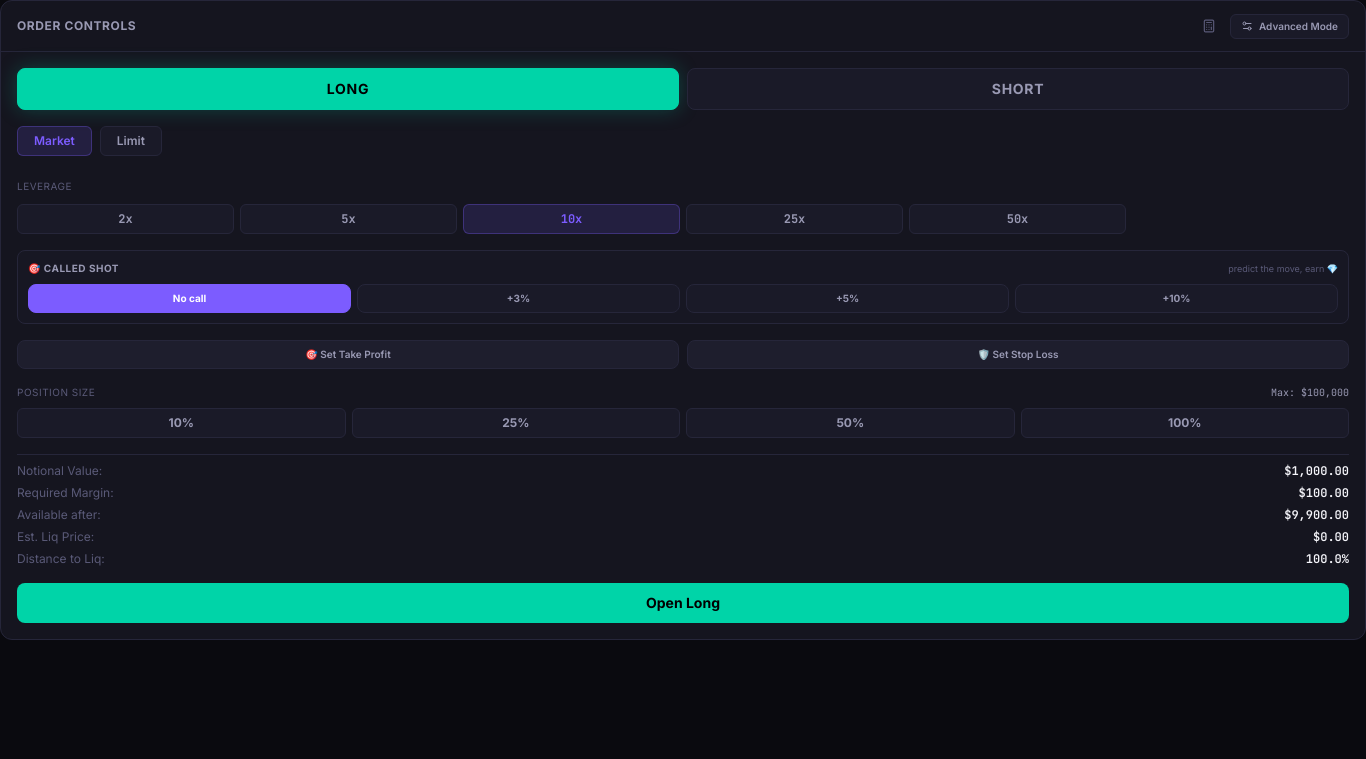
TradeControls › shows TP and SL inputs in simple mode when no position
Expected: the button "🛡️ Set Stop Loss" is shown, [687,340,1349,369]
Click the button "🎯 Set Take Profit" at [348, 354], box [17,340,679,369]
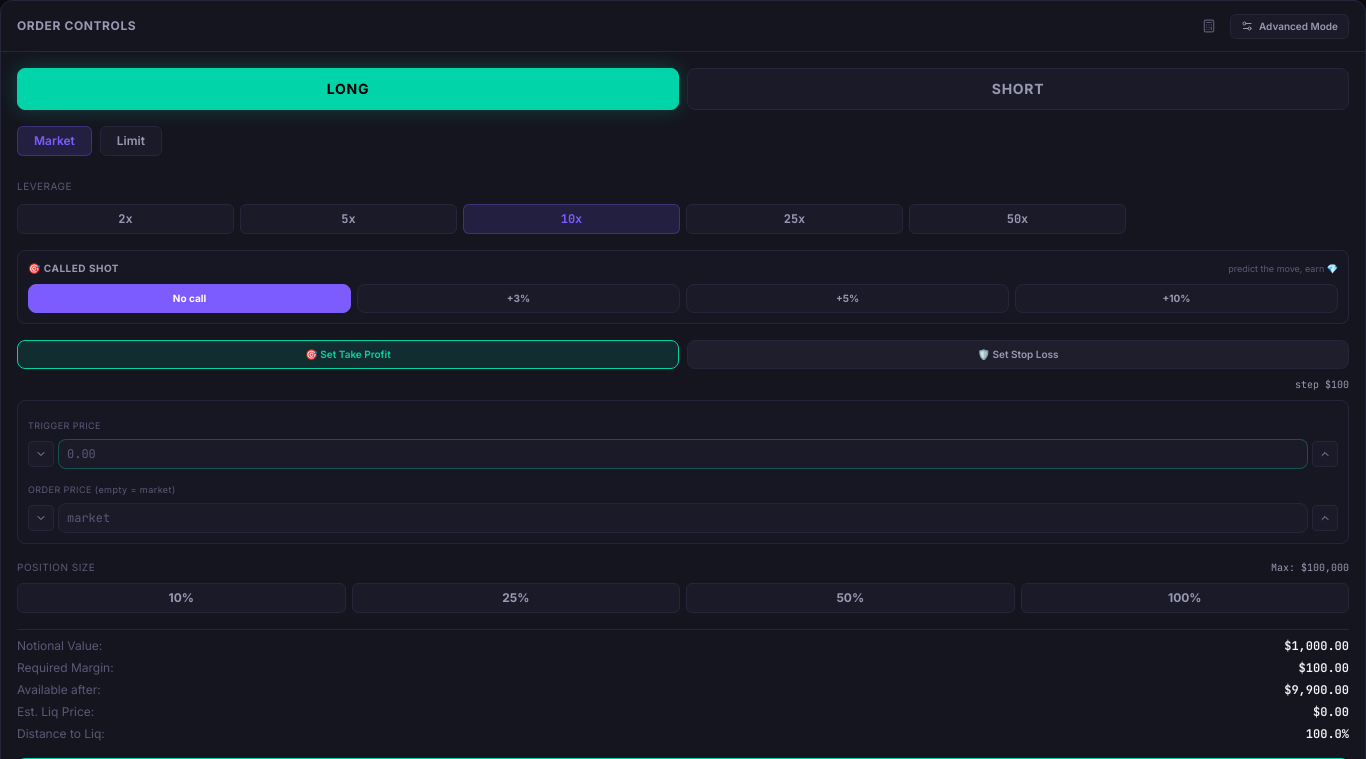
Expected: the text "Trigger Price" is shown, [28,420,101,431]
Expected: the text "Order Price" is shown, [28,484,92,495]
